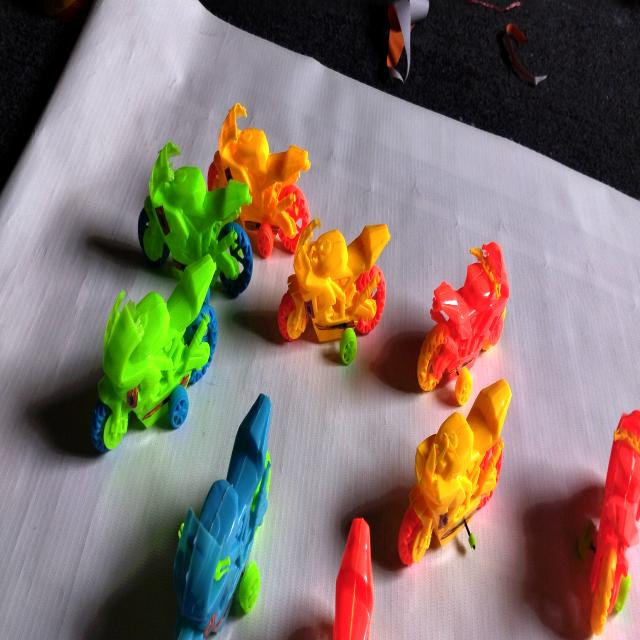bikes: (91, 260, 217, 452), (174, 394, 271, 640), (399, 379, 511, 563), (138, 142, 253, 297), (278, 219, 390, 364), (207, 104, 310, 258), (417, 242, 509, 406), (589, 410, 640, 635)
others: (387, 0, 429, 82), (502, 23, 546, 85)
